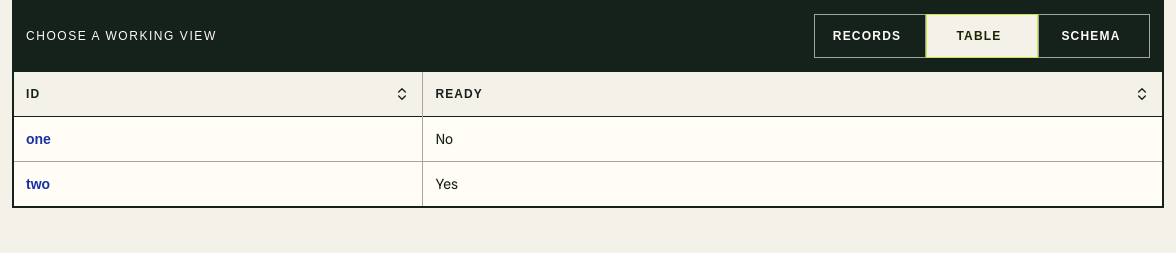
DatasetExplorer › does not relabel boolean values in the schema
This screenshot has width=1176, height=253.
Click the tab "Schema": (1094,36) [1038,14,1150,58]
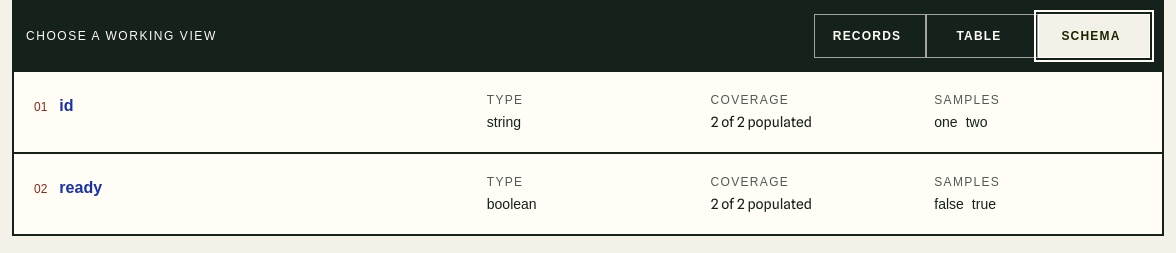
Now the text "false" is shown, box [934,194,964,214]
Now the text "true" is shown, box [972,194,996,214]
Now the text "Yes" is gone
